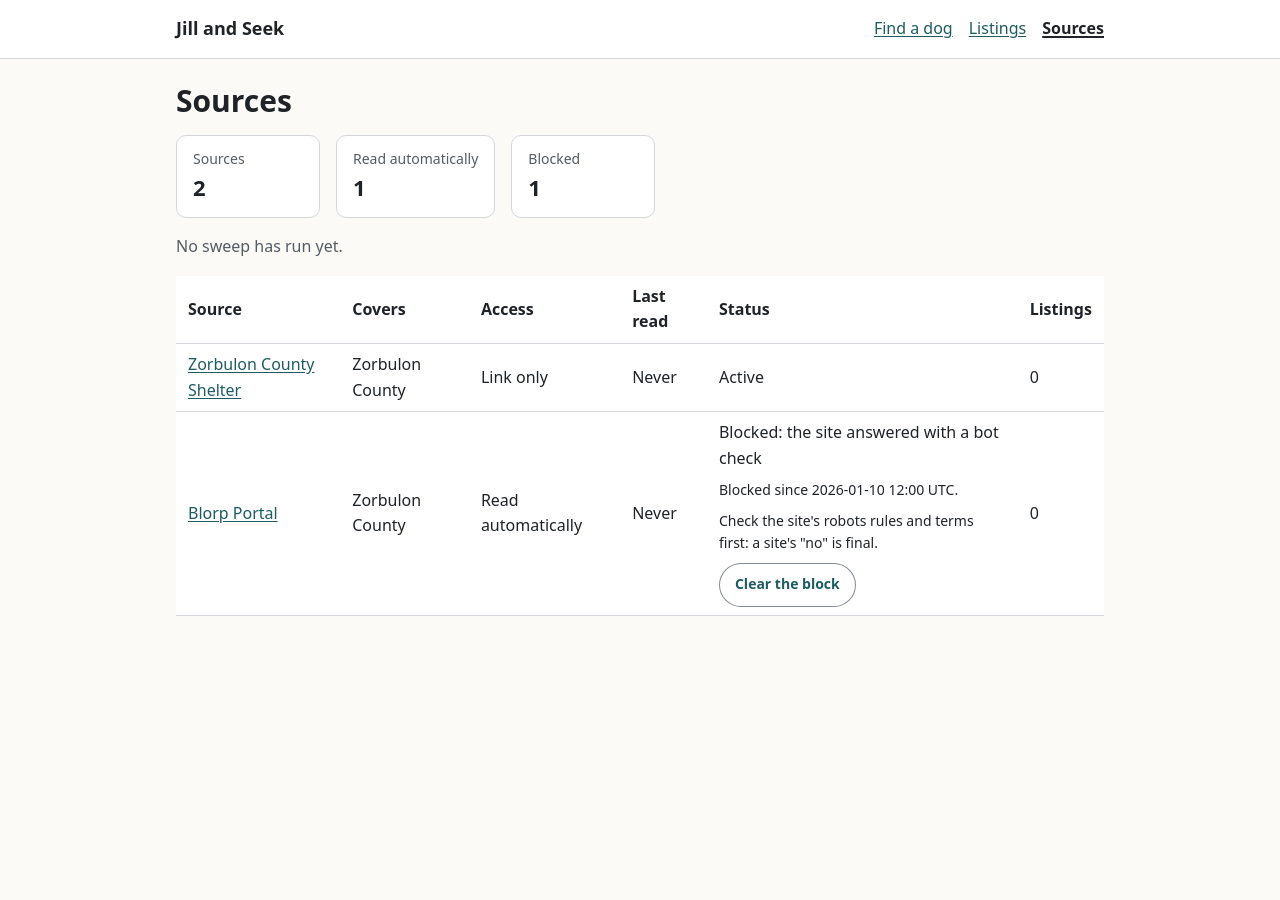
Sources › shows "Clear the block" only beside a blocked source, and asks once before clearing it (#35)
This screenshot has width=1280, height=900.
Expected: the link "Blorp Portal" is shown, [188, 502, 278, 524]
Expected: the text "bot check" is shown, [719, 421, 999, 469]
Click the button "Clear the block": {"x": 787, "y": 584} [719, 562, 856, 606]
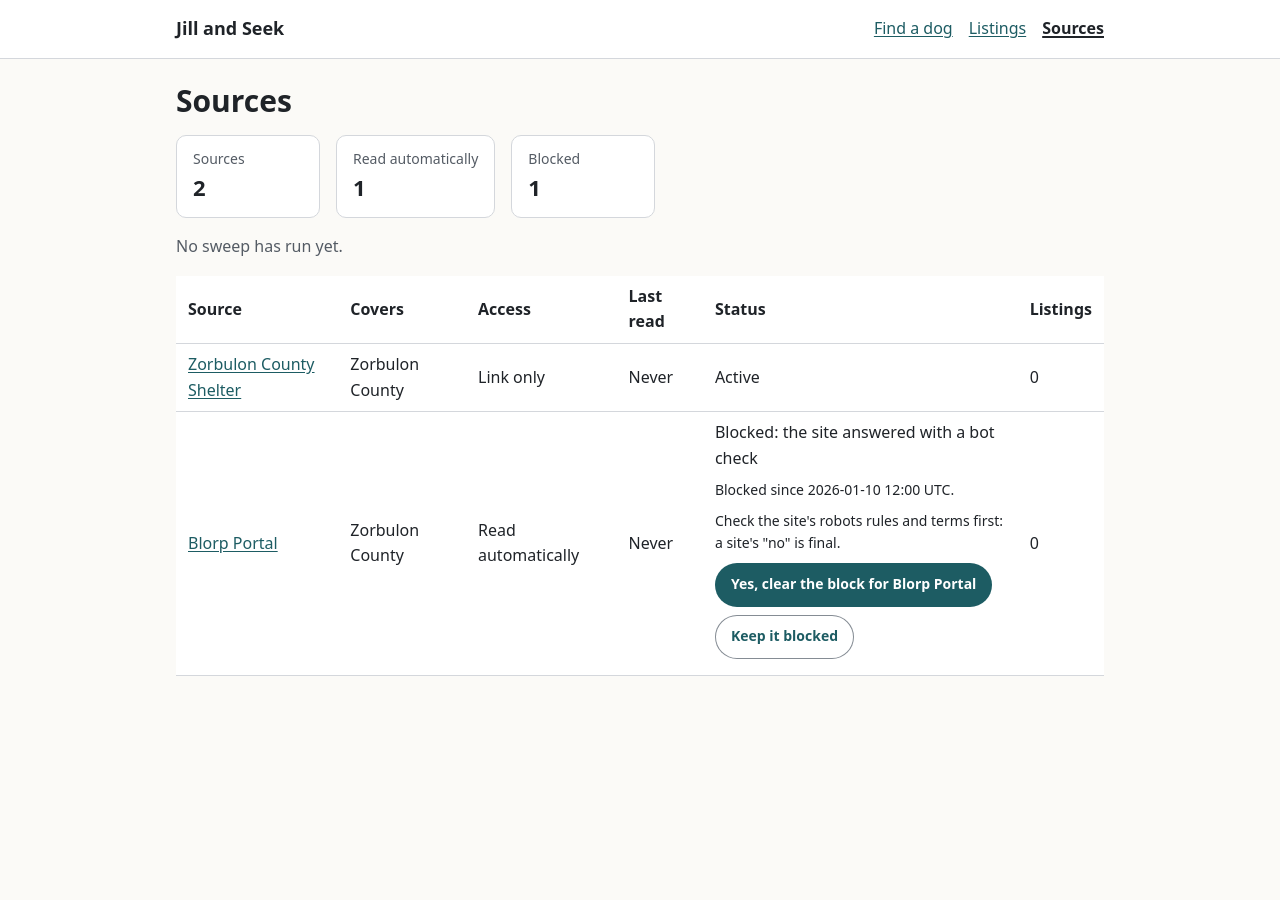
Click the button "Yes, clear the block for Blorp Portal": {"x": 854, "y": 584} [715, 562, 992, 606]
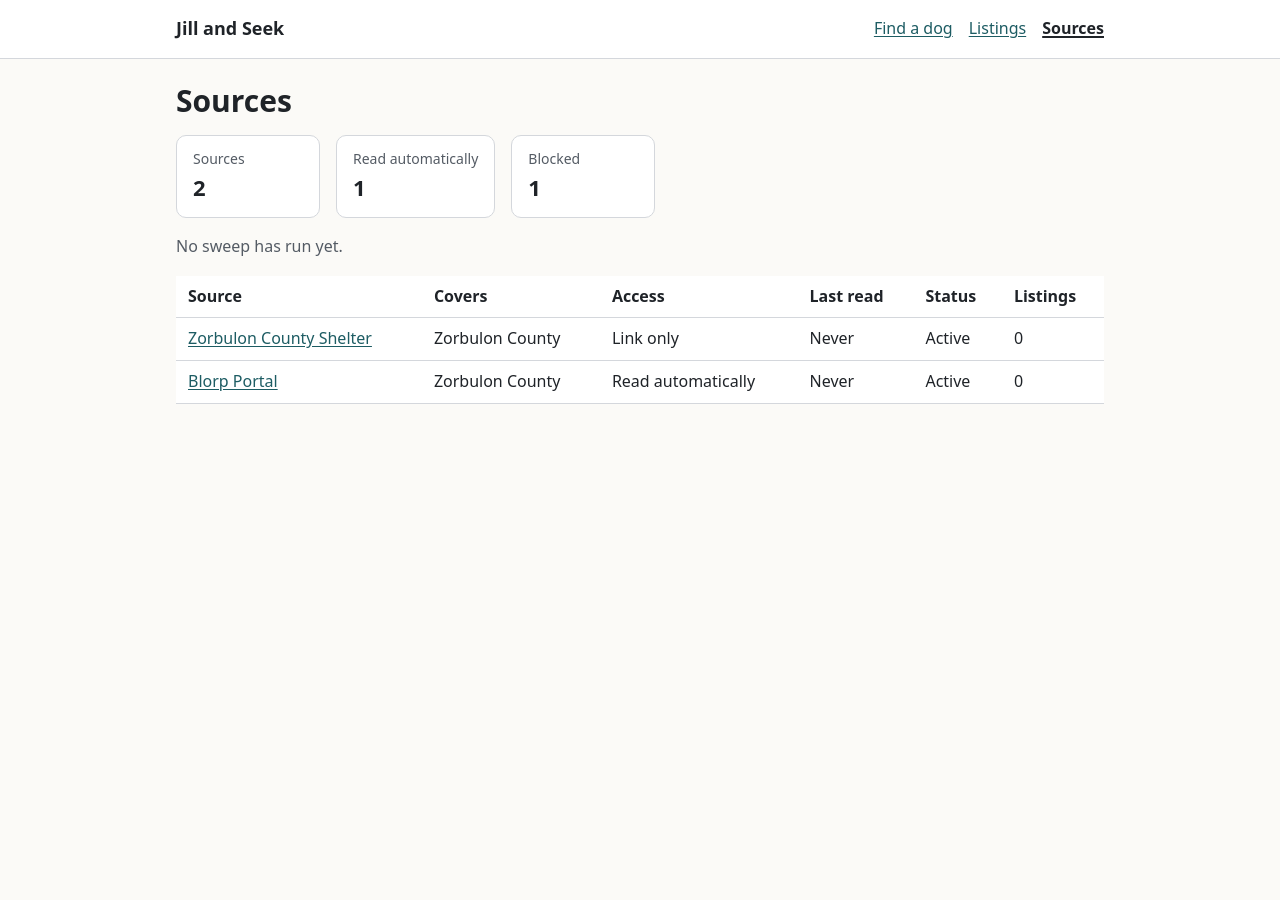
Now the button "clear the block" is gone
Now the text "Active" in the row of "Blorp Portal" is shown, box [925, 370, 970, 392]
